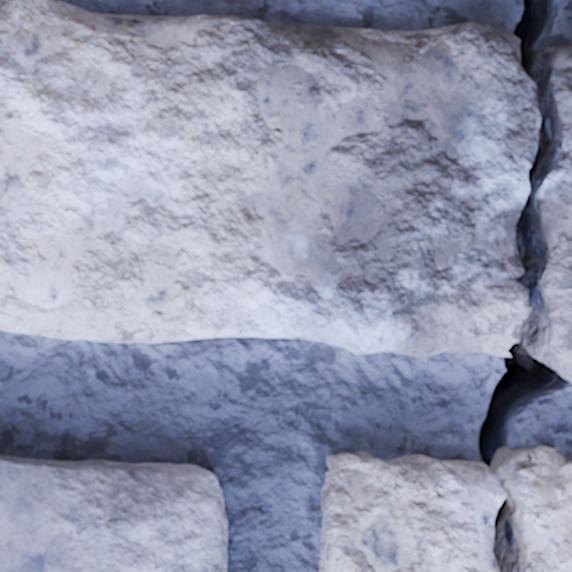brick: (0, 455, 227, 571)
broken_brick: (0, 0, 539, 358), (318, 450, 503, 571), (494, 444, 571, 571), (544, 43, 571, 381)
crack: (475, 0, 570, 571)
